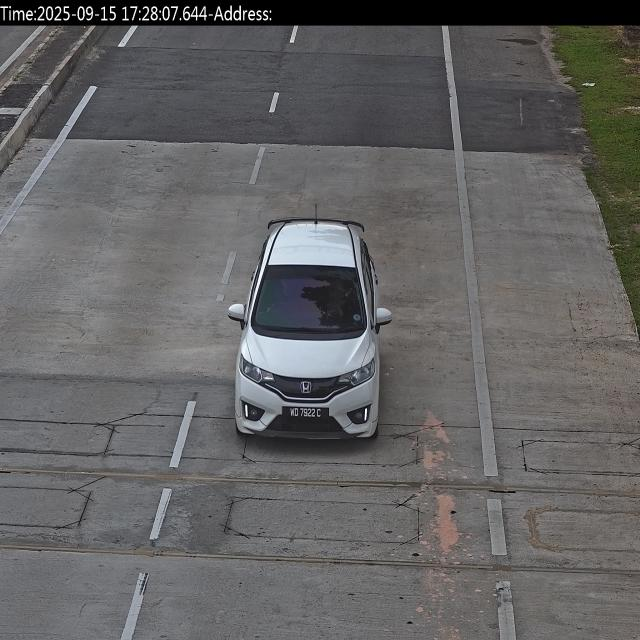front: (278, 400, 336, 427)
